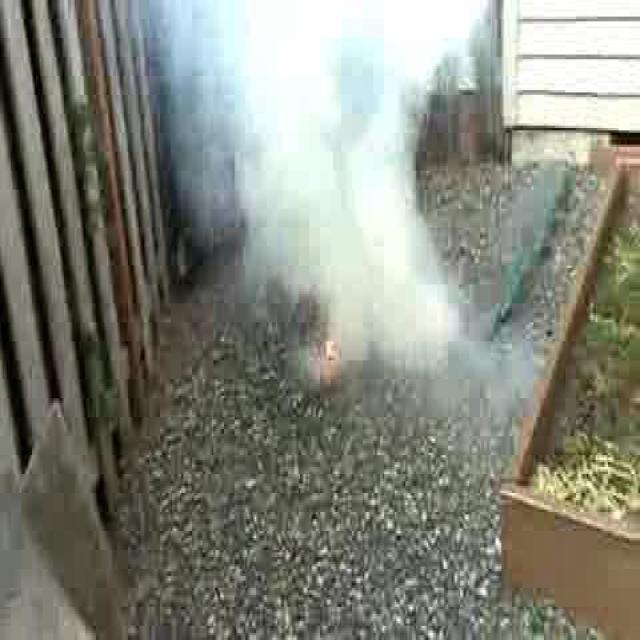Smoke: (125, 0, 547, 431)
